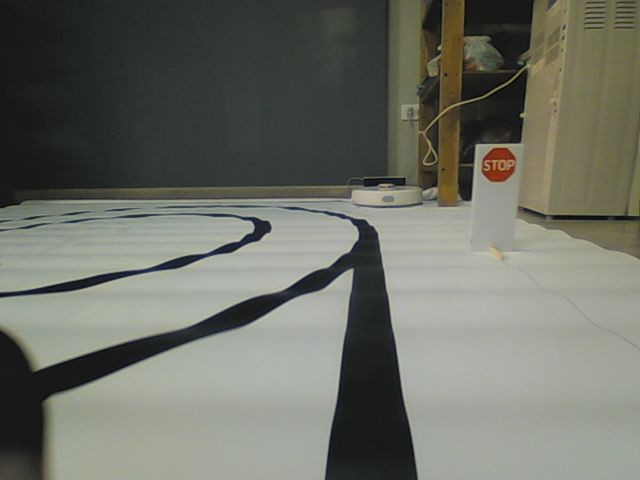Stop: (481, 148, 516, 181)
